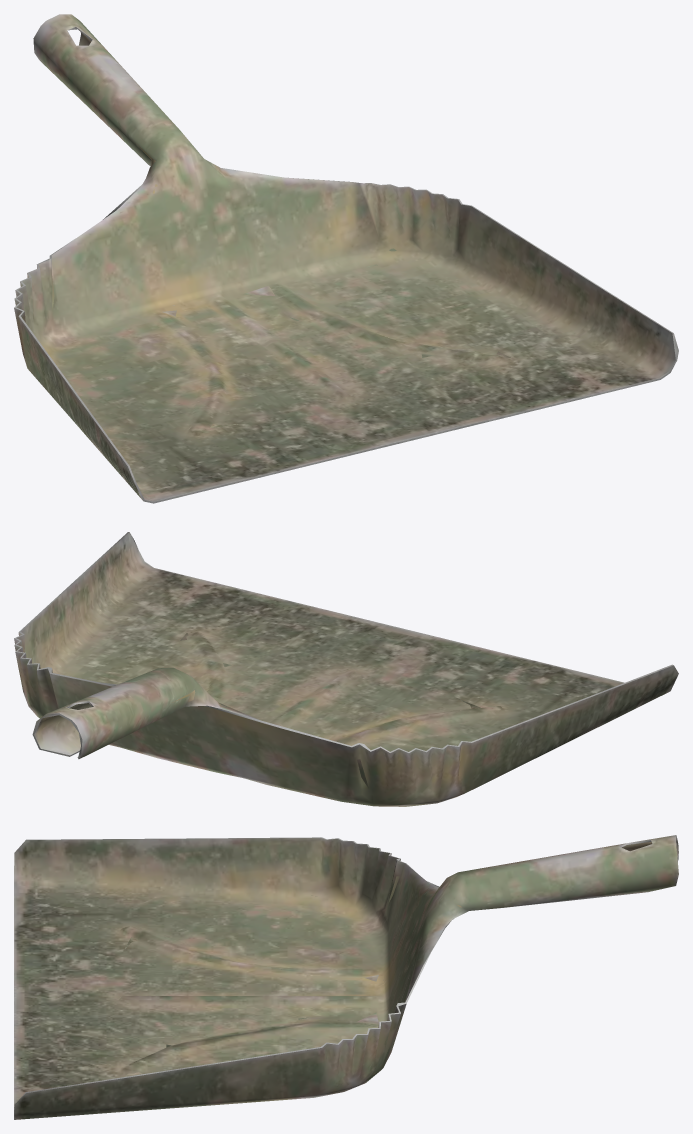
File: dustpan.glb
3 renders of one model, top to bottom at view 1: azimuth 30°, elevation 25°; view 2: azimuth 150°, elevation 25°; view 3: azimuth 270°, elevation 25°, orthographic. The views are drawn at different scales.
Parts seen in each view (by area): view 1: dustpan; view 2: dustpan; view 3: dustpan.
Boxes of the visible parts, x1,y1,x2,y2 form: dustpan: [14, 14, 678, 503]; dustpan: [14, 532, 678, 806]; dustpan: [14, 835, 678, 1119].
Size of the model in its own units: 0.3318 by 0.1003 by 0.3679.
Materials: 1 (1 with a texture image).
